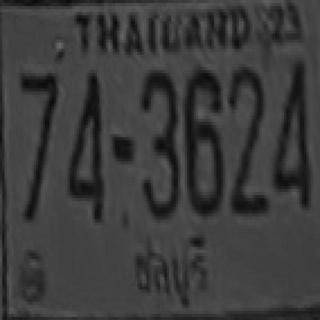N02: (228, 66, 264, 200), (228, 66, 264, 188)
N03: (140, 69, 178, 218)
N04: (270, 58, 309, 207), (66, 70, 102, 219)
N06: (183, 67, 221, 213)
N07: (18, 70, 56, 213), (18, 70, 56, 186), (18, 70, 56, 164)
P13: (121, 233, 214, 309)
